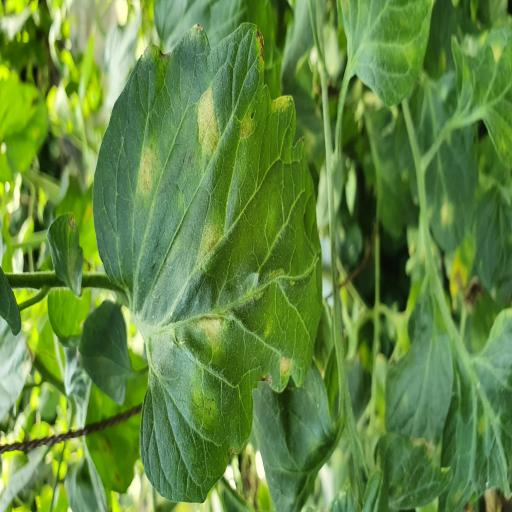Leaf Mold: (92, 19, 326, 512)
